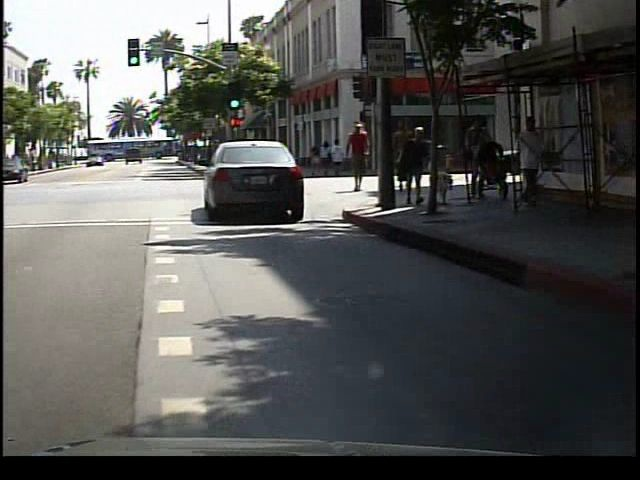person: (346, 115, 380, 198), (387, 112, 418, 194)
